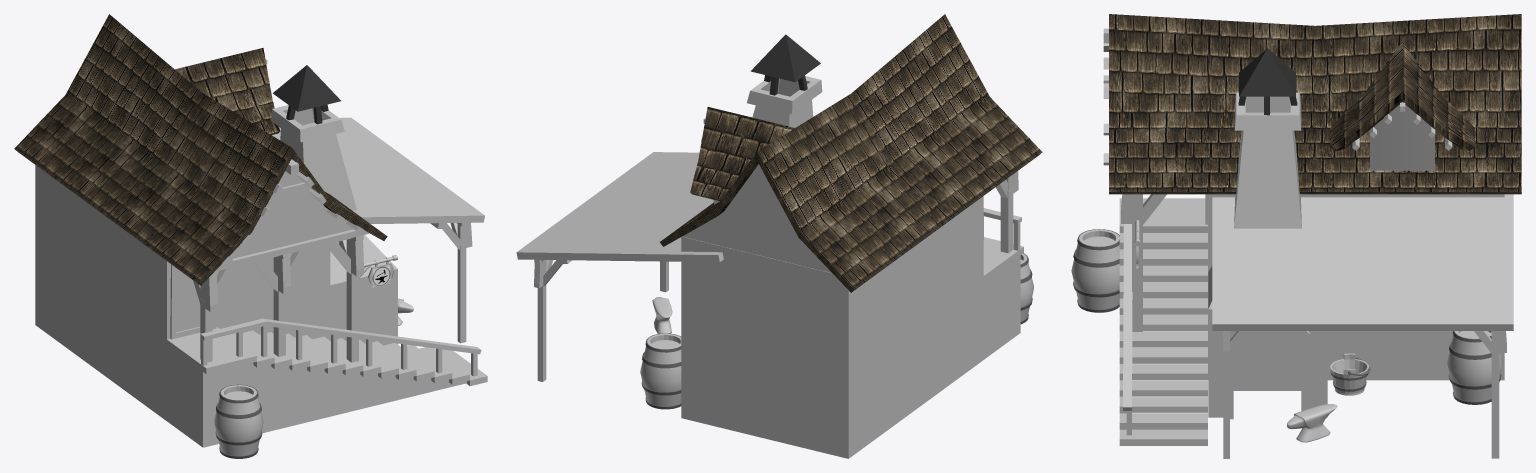
Rendered from House_3.fbx.
The picture shows the model from 3 angles, left to right: view 1: azimuth 30°, elevation 25°; view 2: azimuth 150°, elevation 25°; view 3: azimuth 270°, elevation 25°; orthographic projection. The views are drawn at different scales.
Parts seen in each view (by area): view 1: House_3; view 2: House_3; view 3: House_3.
Boxes of the visible parts, x1,y1,x2,y2 form: House_3: (14, 14, 487, 458); House_3: (516, 14, 1042, 458); House_3: (1071, 14, 1521, 458).
Size of the model in its own units: 102 by 86.64 by 106.
